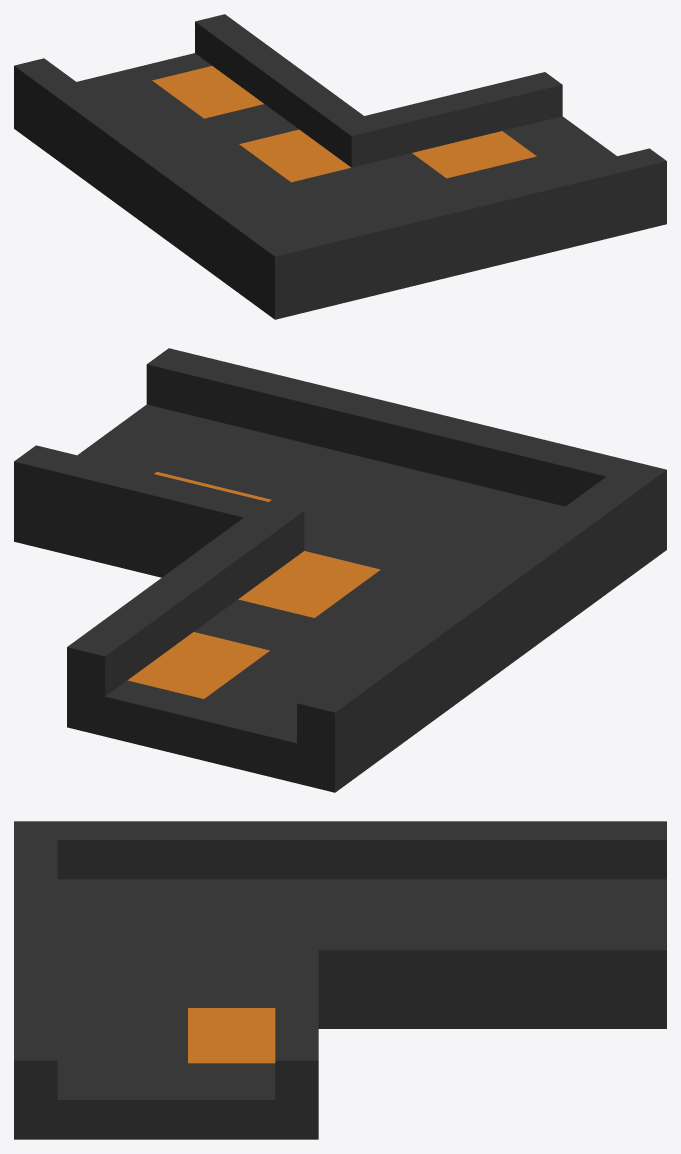
Rendered from sidewalk_corner.obj.
The picture shows the model from 3 angles, top to bottom: view 1: azimuth 30°, elevation 25°; view 2: azimuth 150°, elevation 25°; view 3: azimuth 270°, elevation 25°; orthographic projection. The views are drawn at different scales.
Bounding box in the file's own units: 1.3 × 0.2 × 1.5.
Materials: 1 (1 with a texture image).
